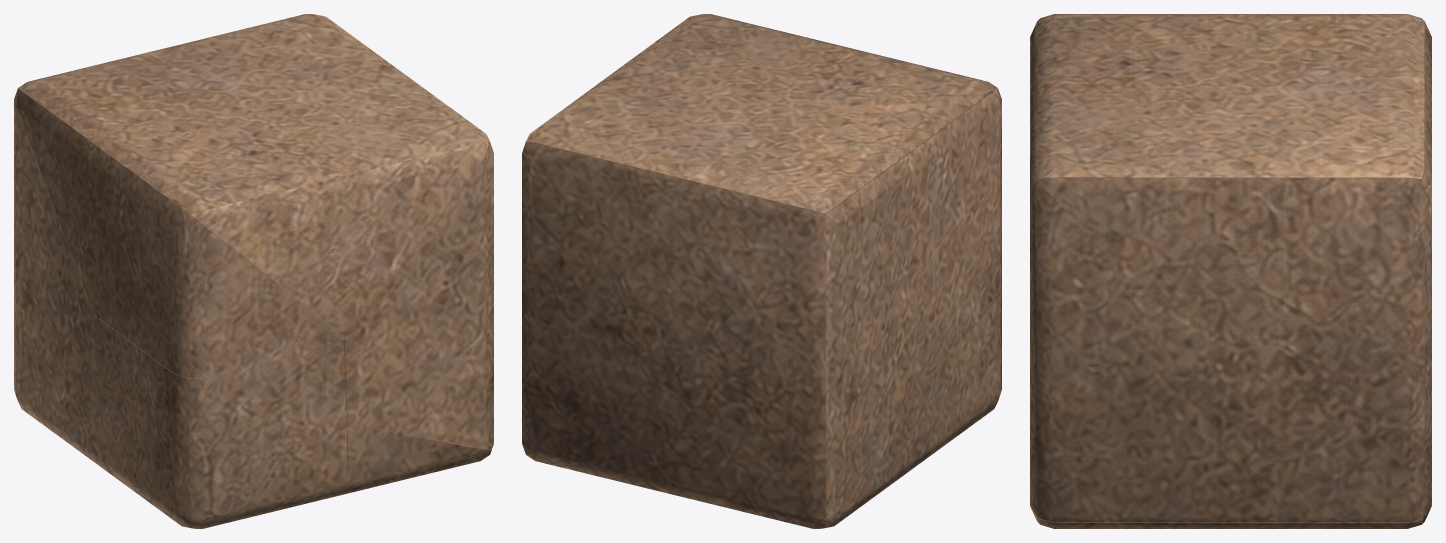
File: Stone_Cube2_Drop.fbx
3 renders of one model, left to right at view 1: azimuth 30°, elevation 25°; view 2: azimuth 150°, elevation 25°; view 3: azimuth 270°, elevation 25°, orthographic. The views are drawn at different scales.
Parts seen in each view (by area): view 1: Stone_Cube2_cell, Stone_Cube2_cell.003, Stone_Cube2_cell.004, Stone_Cube2_cell.006, Stone_Cube2_cell.002, Stone_Cube2_cell.001, Stone_Cube2_cell.005; view 2: Stone_Cube2_cell.002, Stone_Cube2_cell, Stone_Cube2_cell.003, Stone_Cube2_cell.001, Stone_Cube2_cell.006; view 3: Stone_Cube2_cell.004, Stone_Cube2_cell, Stone_Cube2_cell.002, Stone_Cube2_cell.005.
Part boxes in pixels (x1,y1,x2,y2): Stone_Cube2_cell: [18, 14, 489, 337]; Stone_Cube2_cell.003: [16, 88, 343, 377]; Stone_Cube2_cell.004: [329, 142, 493, 449]; Stone_Cube2_cell.006: [162, 339, 347, 528]; Stone_Cube2_cell.002: [14, 88, 95, 463]; Stone_Cube2_cell.001: [90, 316, 195, 528]; Stone_Cube2_cell.005: [343, 423, 491, 494]; Stone_Cube2_cell.002: [522, 141, 917, 528]; Stone_Cube2_cell: [526, 14, 997, 214]; Stone_Cube2_cell.003: [825, 88, 1001, 318]; Stone_Cube2_cell.001: [908, 269, 1000, 471]; Stone_Cube2_cell.006: [985, 250, 1001, 402]; Stone_Cube2_cell.004: [1030, 178, 1424, 522]; Stone_Cube2_cell: [1030, 14, 1424, 185]; Stone_Cube2_cell.002: [1421, 21, 1431, 524]; Stone_Cube2_cell.005: [1030, 507, 1422, 528].
Size of the model in its own units: 222 by 222 by 222.
